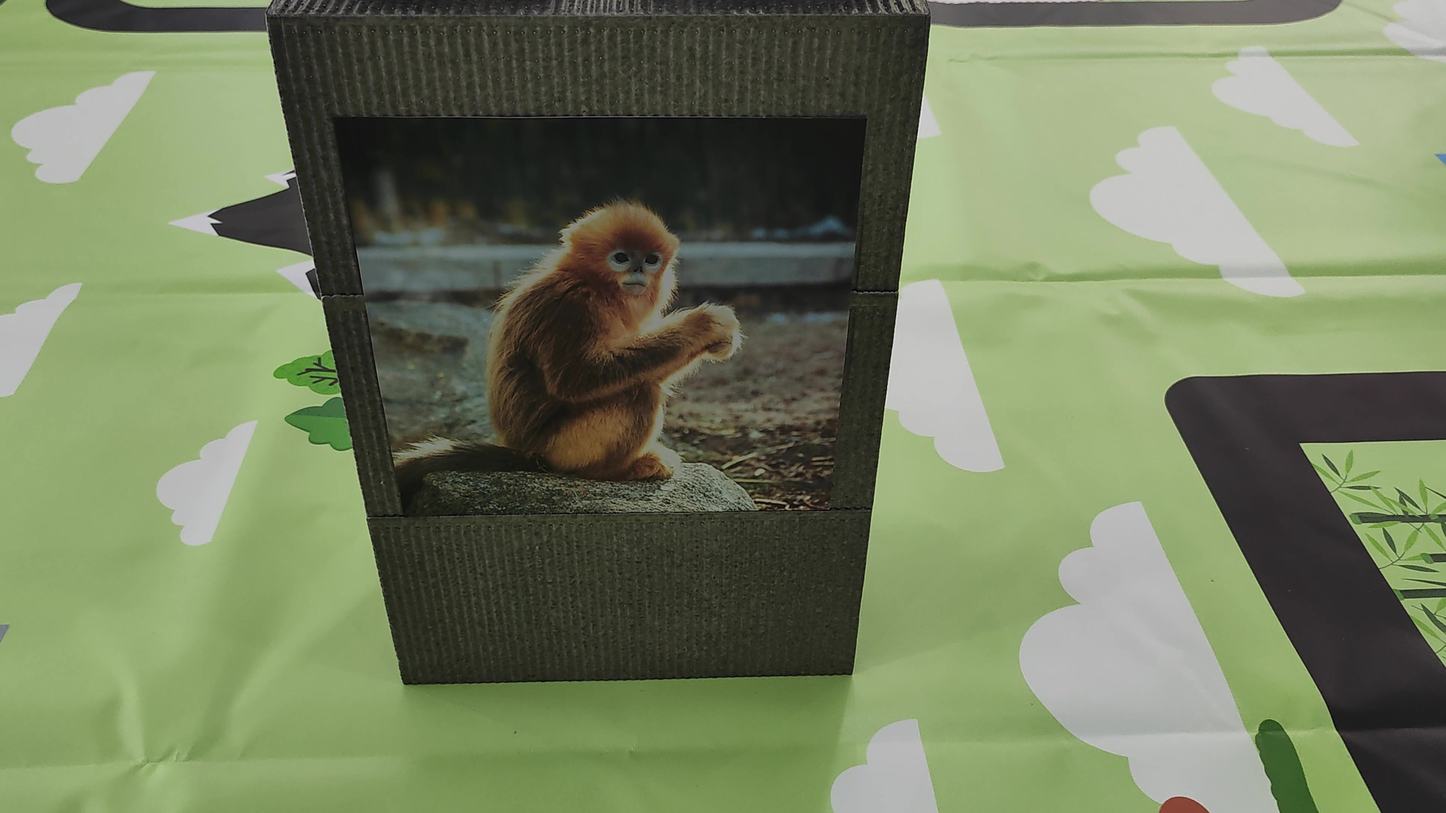monkey: (392, 162, 779, 495)
